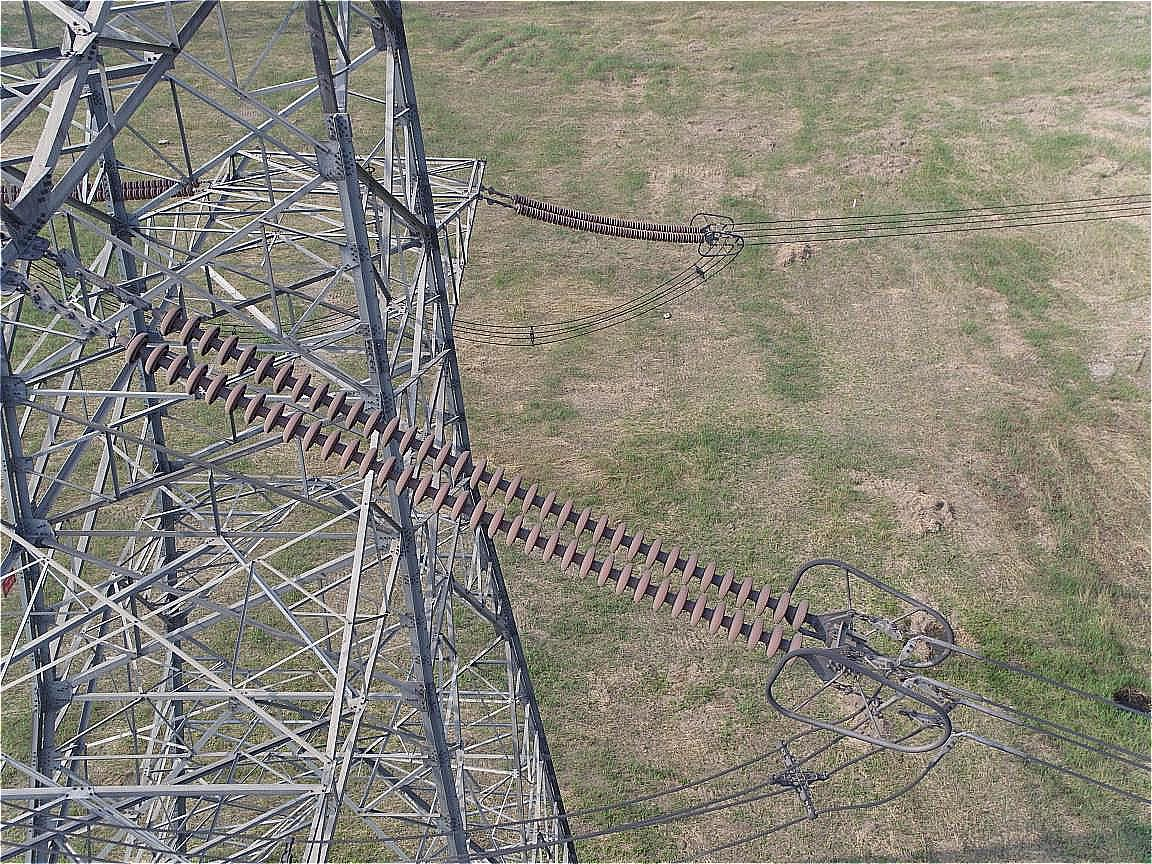insultor1: (124, 306, 811, 662)
insultor2: (512, 192, 709, 244)
